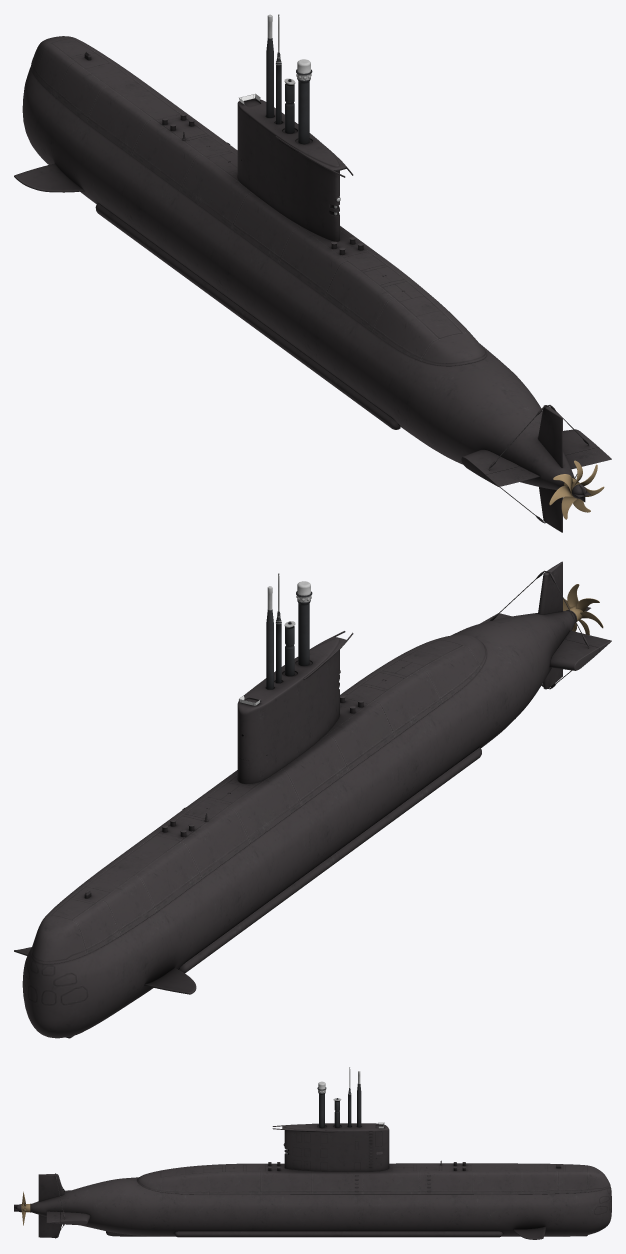
3 views of the same model, one above another, from view 1: azimuth 30°, elevation 25°; view 2: azimuth 150°, elevation 25°; view 3: azimuth 270°, elevation 25° (orthographic). The views are drawn at different scales.
Visible parts, largest first — view 1: Type209; view 2: Type209; view 3: Type209.
Part boxes in pixels (bbox=[...]): Type209: bbox=[14, 14, 611, 532]; Type209: bbox=[14, 561, 611, 1038]; Type209: bbox=[14, 1067, 611, 1239].
Size of the model in its own units: 1035 by 5551 by 1750.
Materials: 2 (2 with a texture image).
